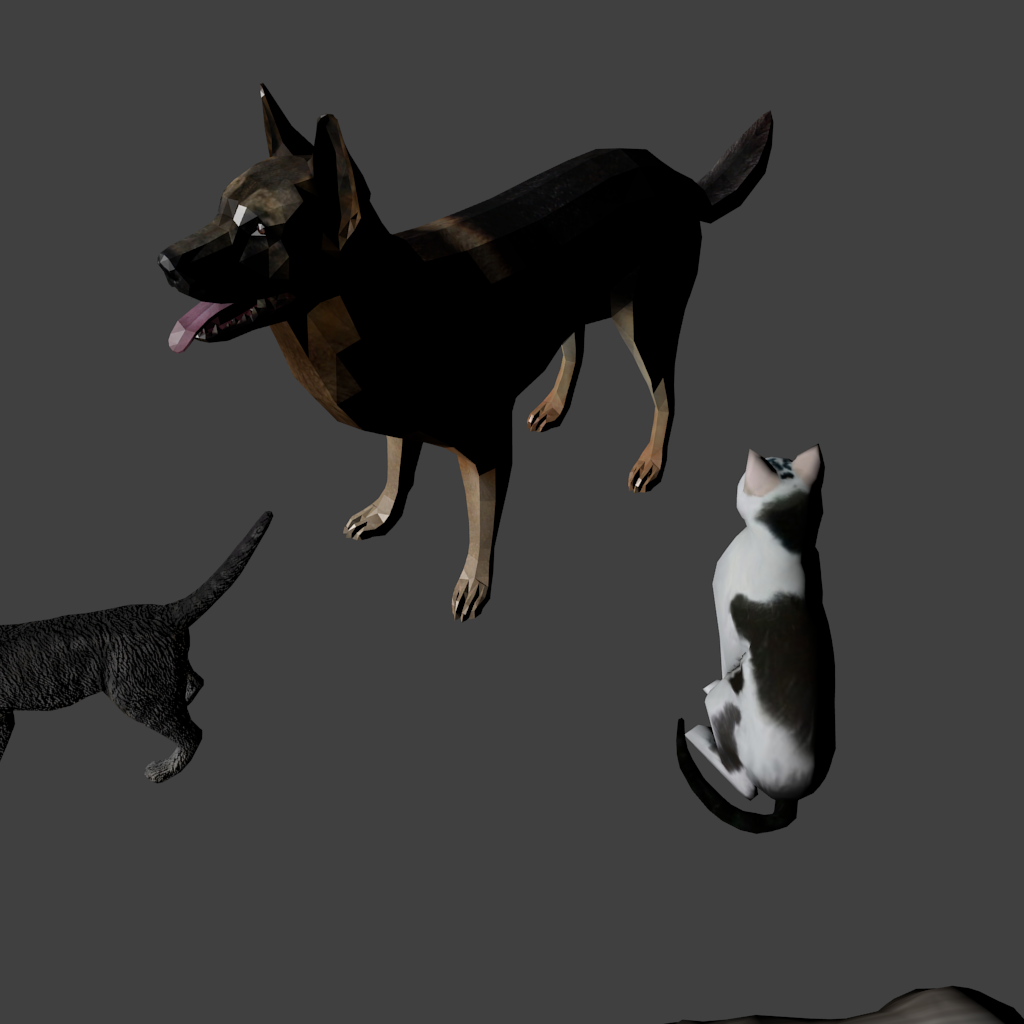Dog: (157, 83, 616, 540)
